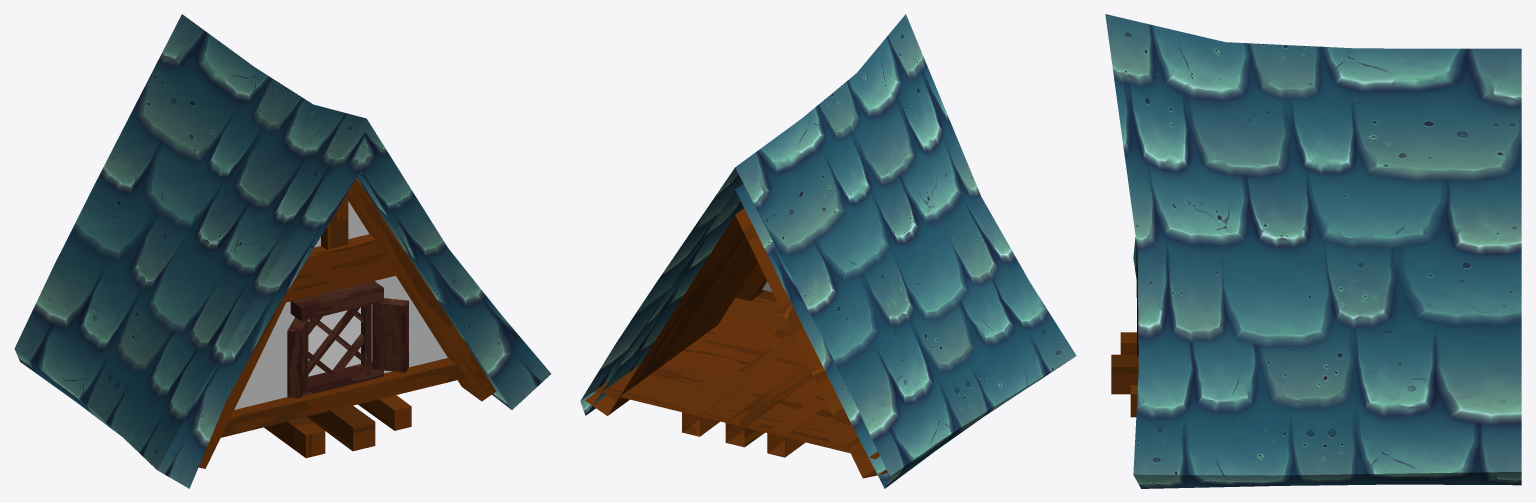
The model's file is SM_BLD_window_v05_01.fbx.
3 views of the same model, side by side, from view 1: azimuth 30°, elevation 25°; view 2: azimuth 150°, elevation 25°; view 3: azimuth 270°, elevation 25° (orthographic). The views are drawn at different scales.
Visible parts, largest first — view 1: SM_BLD_window_v05_01; view 2: SM_BLD_window_v05_01; view 3: SM_BLD_window_v05_01.
Boxes of the visible parts, x1=… form: SM_BLD_window_v05_01: x1=14, y1=14, x2=550, y2=488; SM_BLD_window_v05_01: x1=580, y1=14, x2=1076, y2=488; SM_BLD_window_v05_01: x1=1105, y1=14, x2=1521, y2=488.
Size of the model in its own units: 455 by 378 by 369.
